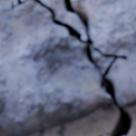broken_brick: (0, 1, 112, 135), (73, 0, 135, 107), (43, 0, 85, 39)
crack: (2, 0, 133, 135)
